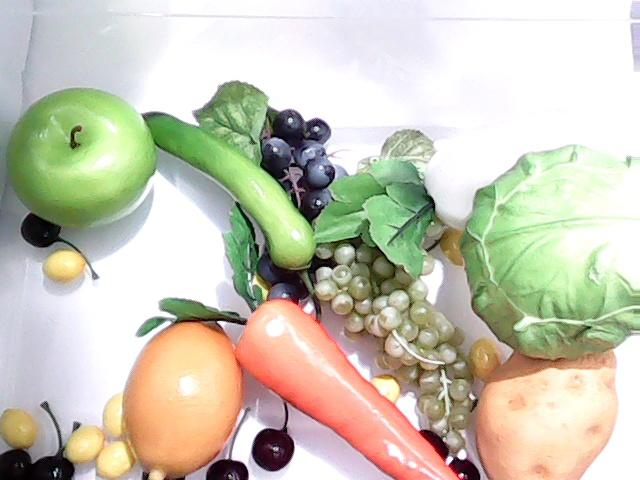apple: (0, 80, 162, 236)
cabbage: (471, 137, 639, 363)
carrot: (135, 202, 462, 480)
grape: (314, 208, 476, 460), (248, 102, 338, 306)
lemon: (112, 305, 244, 477)
pepper: (136, 107, 324, 266)
potato: (474, 344, 618, 480)
radish: (314, 120, 638, 280)
